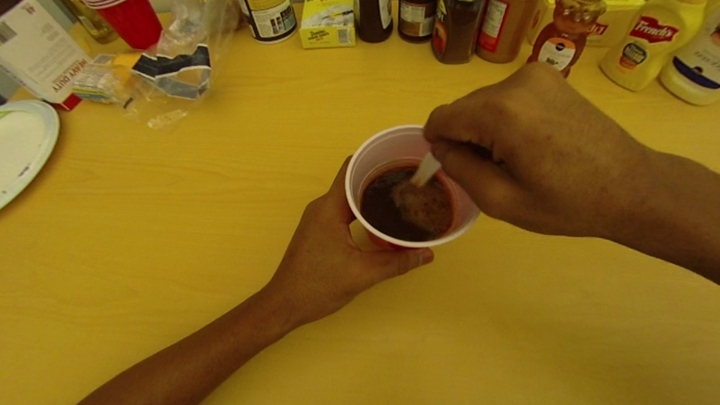hand: (424, 56, 635, 247), (276, 152, 435, 335)
